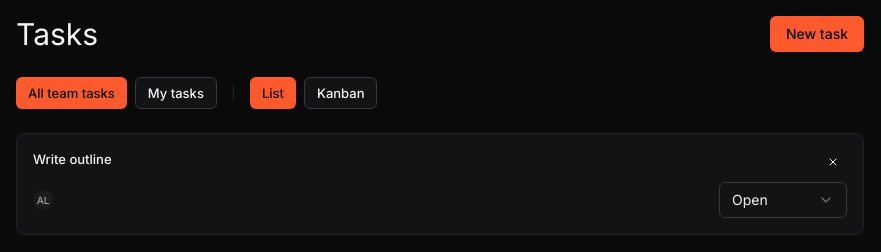
Test: TasksClient › deletes a task
The image size is (881, 252).
Click the button named "Delete \"Write outline\"" at (833,162), box [819, 150, 847, 174]
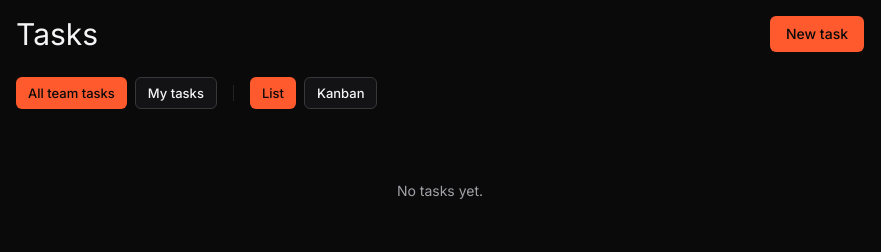
Check: the text "No tasks yet." is shown, box [397, 181, 483, 201]
